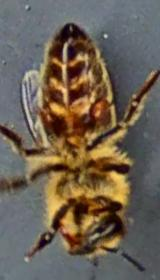varroa_mite: (82, 84, 118, 126)
